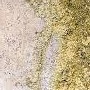Corrosion: (25, 1, 90, 90)
